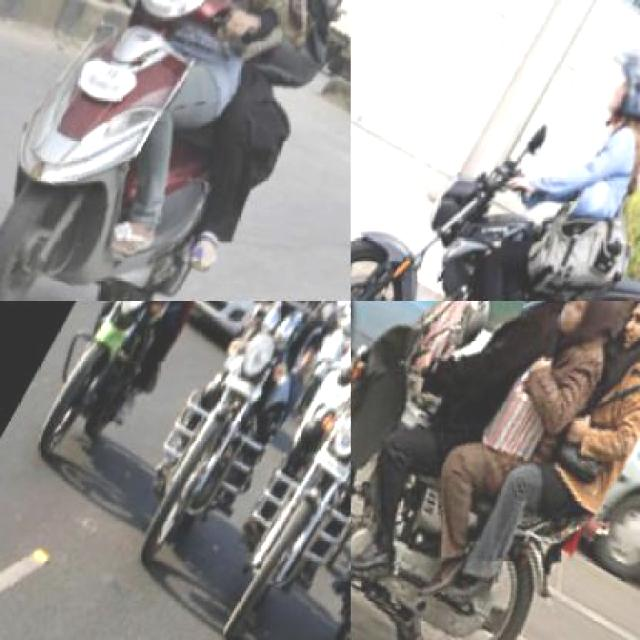With Helmet: (583, 18, 639, 140)
Without Helmet: (549, 300, 637, 354), (608, 300, 638, 371)
